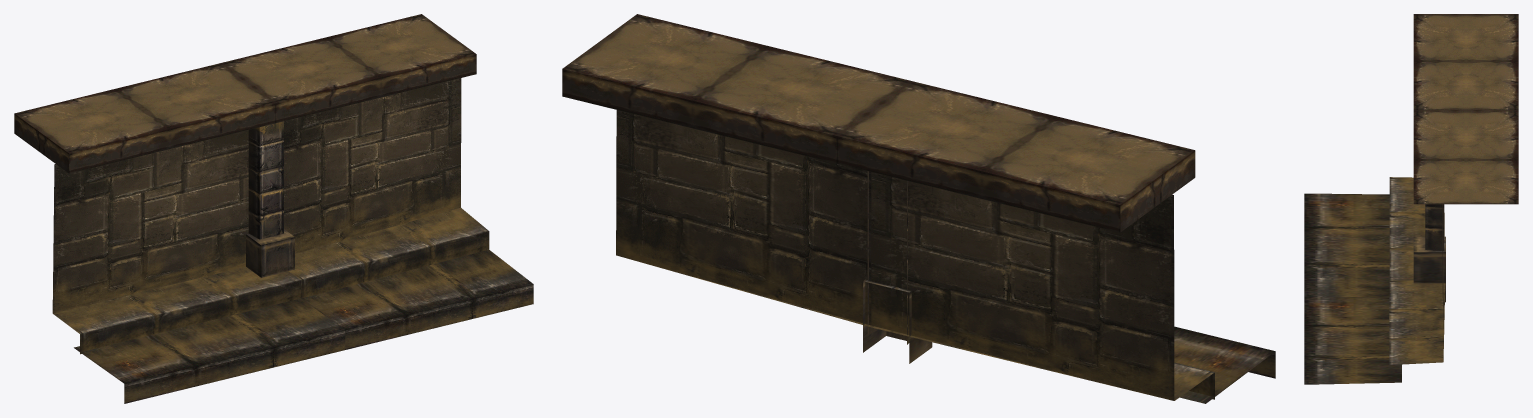
Rendered from 10401_building03.FBX.
3 renders of one model, left to right at view 1: azimuth 30°, elevation 25°; view 2: azimuth 150°, elevation 25°; view 3: azimuth 270°, elevation 25°, orthographic. The views are drawn at different scales.
Visible parts, largest first — view 1: 10401_building03; view 2: 10401_building03; view 3: 10401_building03.
Boxes of the visible parts, x1,y1,x2,y2 form: 10401_building03: (14, 14, 533, 403); 10401_building03: (562, 14, 1275, 403); 10401_building03: (1304, 14, 1518, 384).
Size of the model in its own units: 887 by 432 by 420.
